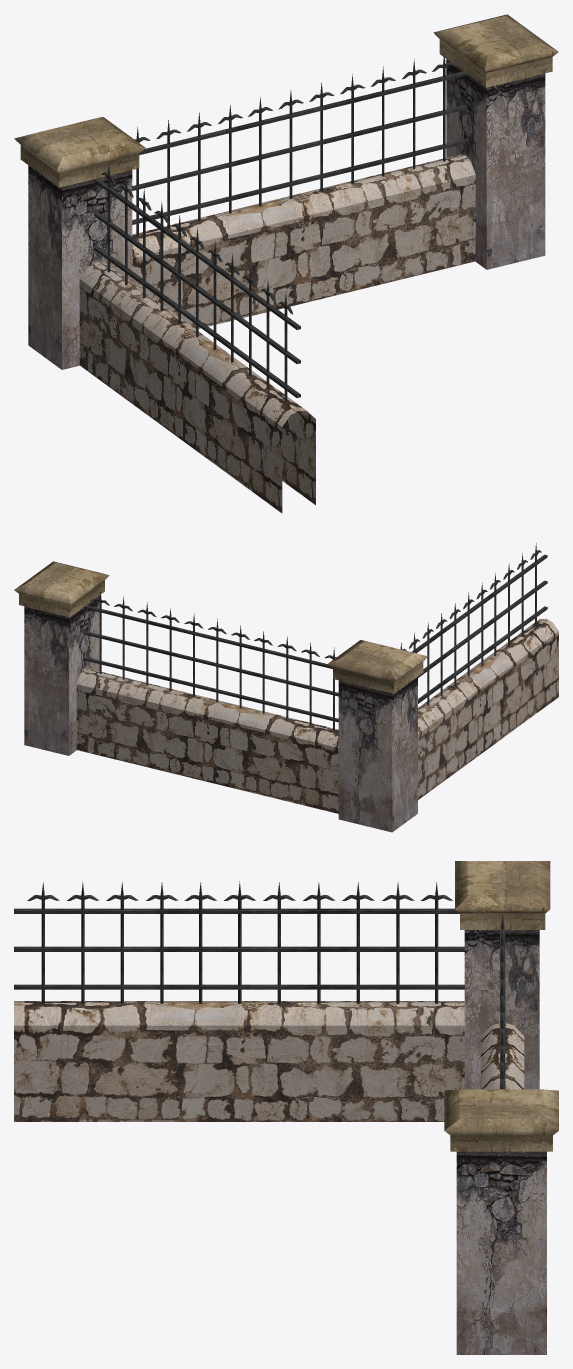
Rendered from Wall_Right_02_ALT.fbx.
3 views of the same model, one above another, from view 1: azimuth 30°, elevation 25°; view 2: azimuth 150°, elevation 25°; view 3: azimuth 270°, elevation 25° (orthographic). The views are drawn at different scales.
Visible parts, largest first — view 1: wall_right_02; view 2: wall_right_02; view 3: wall_right_02.
Part boxes in pixels (<box>): wall_right_02: <box>14,14,558,513</box>; wall_right_02: <box>14,543,558,832</box>; wall_right_02: <box>14,861,558,1354</box>.
Size of the model in its own units: 8.5 by 3.45 by 7.26.
